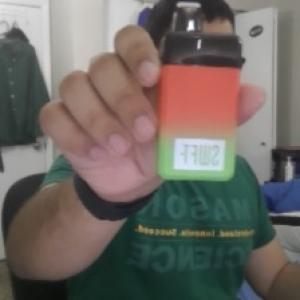Swift-E-Ciggirate: (150, 1, 244, 185)
